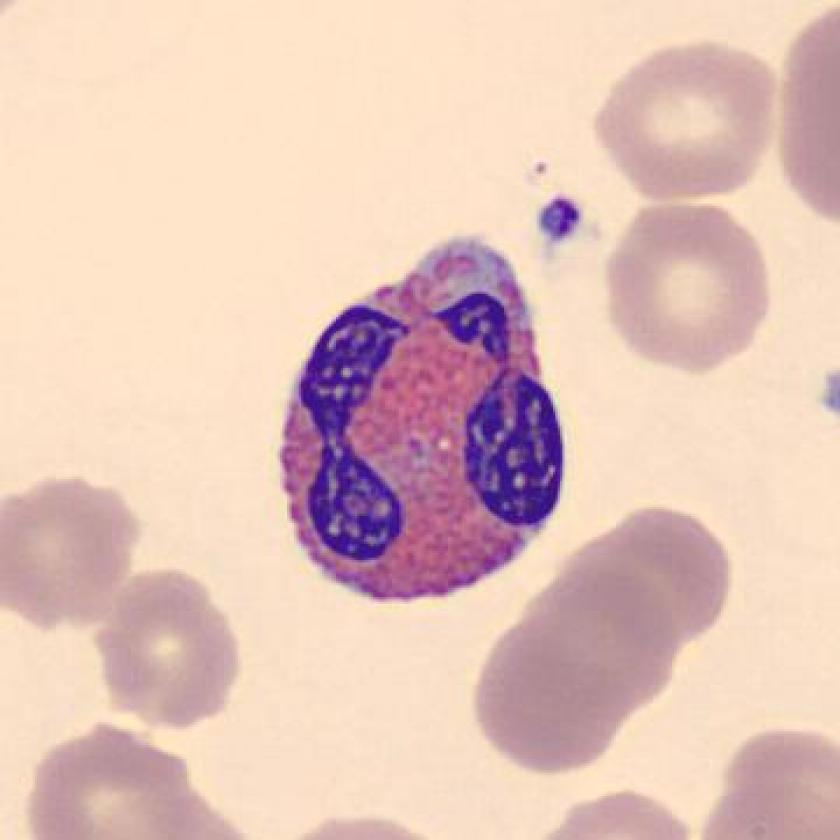eosinophil: (265, 223, 584, 617)
